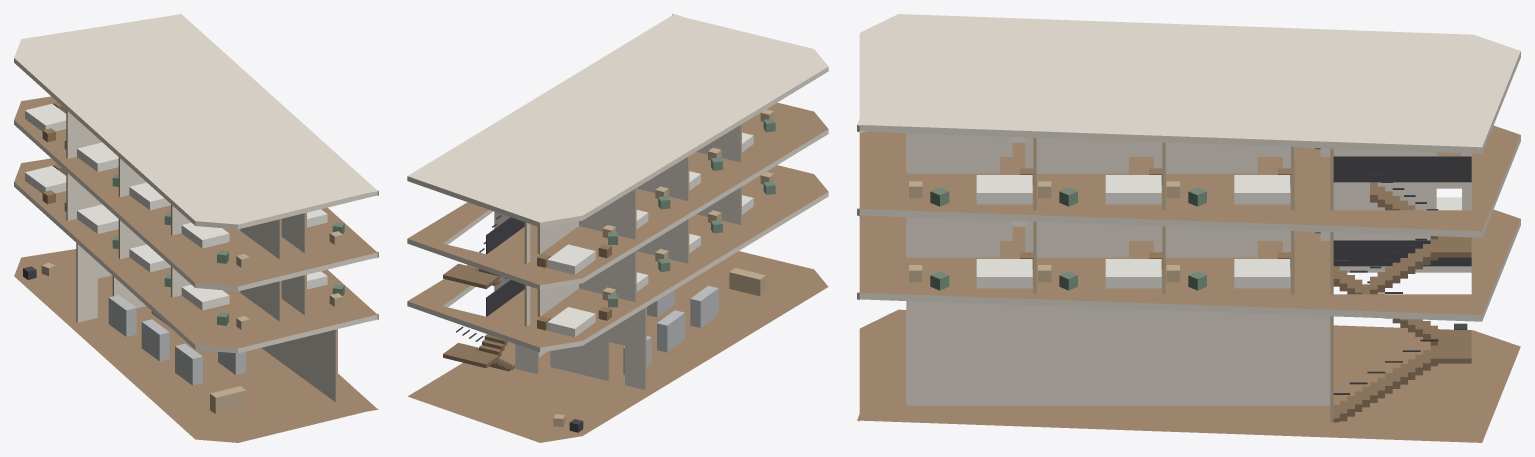
Rendered from interior.glb.
The picture shows the model from 3 angles, left to right: view 1: azimuth 30°, elevation 25°; view 2: azimuth 150°, elevation 25°; view 3: azimuth 270°, elevation 25°; orthographic projection. The views are drawn at different scales.
Visible parts, largest first — view 1: slabs, partitions, coarse-s1, coarse-s2, coarse-s0; view 2: slabs, partitions, stair, coarse-s0, coarse-s2, coarse-s1; view 3: slabs, partitions, stair, coarse-s1, coarse-s2.
Part boxes in pixels (bbox=[...]): slabs: bbox=[14, 14, 378, 442]; partitions: bbox=[66, 110, 337, 402]; coarse-s1: bbox=[25, 164, 344, 329]; coarse-s2: bbox=[25, 102, 344, 267]; coarse-s0: bbox=[23, 262, 246, 414]; slabs: bbox=[407, 14, 828, 442]; partitions: bbox=[494, 124, 741, 389]; stair: bbox=[443, 215, 524, 371]; coarse-s0: bbox=[553, 268, 766, 432]; coarse-s2: bbox=[537, 109, 775, 274]; coarse-s1: bbox=[537, 172, 775, 337]; slabs: bbox=[857, 14, 1520, 442]; partitions: bbox=[906, 133, 1471, 422]; stair: bbox=[1332, 156, 1471, 422]; coarse-s1: bbox=[909, 197, 1461, 290]; coarse-s2: bbox=[909, 137, 1320, 206].
Bounding box in the file's own units: 11.25 × 11.65 × 23.66.
